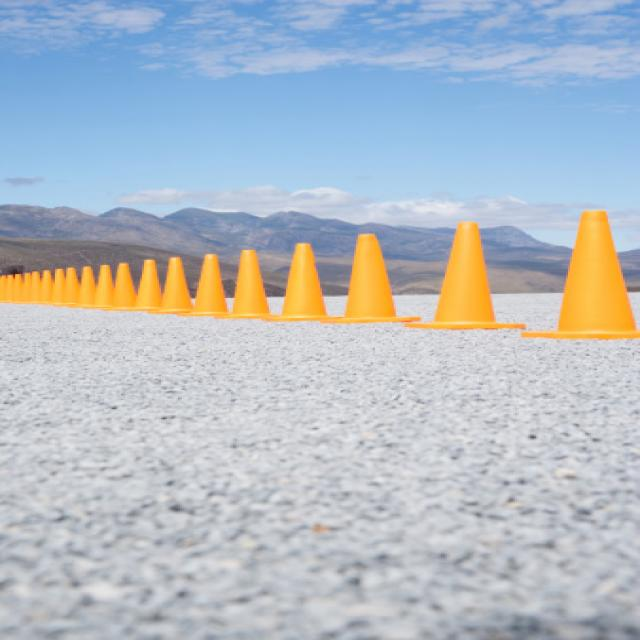cone: (521, 210, 638, 342), (404, 223, 526, 331), (326, 233, 416, 324), (263, 243, 339, 320), (218, 248, 276, 320), (186, 252, 234, 320), (150, 254, 193, 313)
